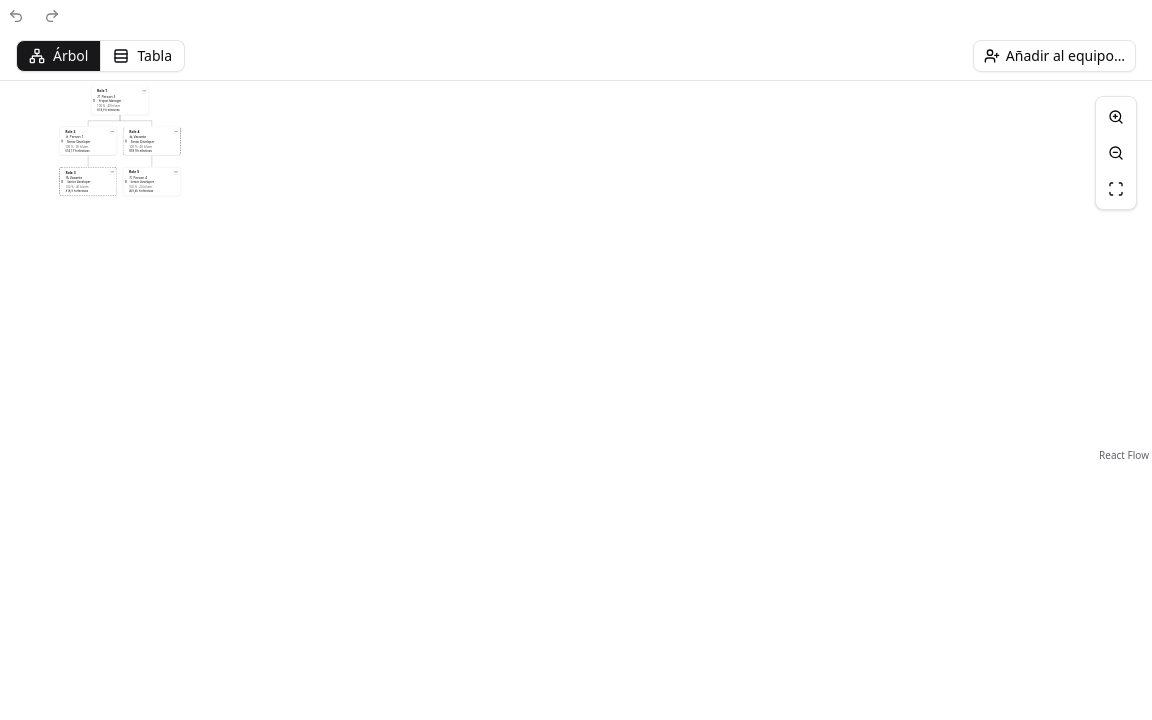
the team's menus › keeps a typed project role when the choice changes
Click the button "Añadir al equipo…": (1054, 56) [973,40,1136,72]
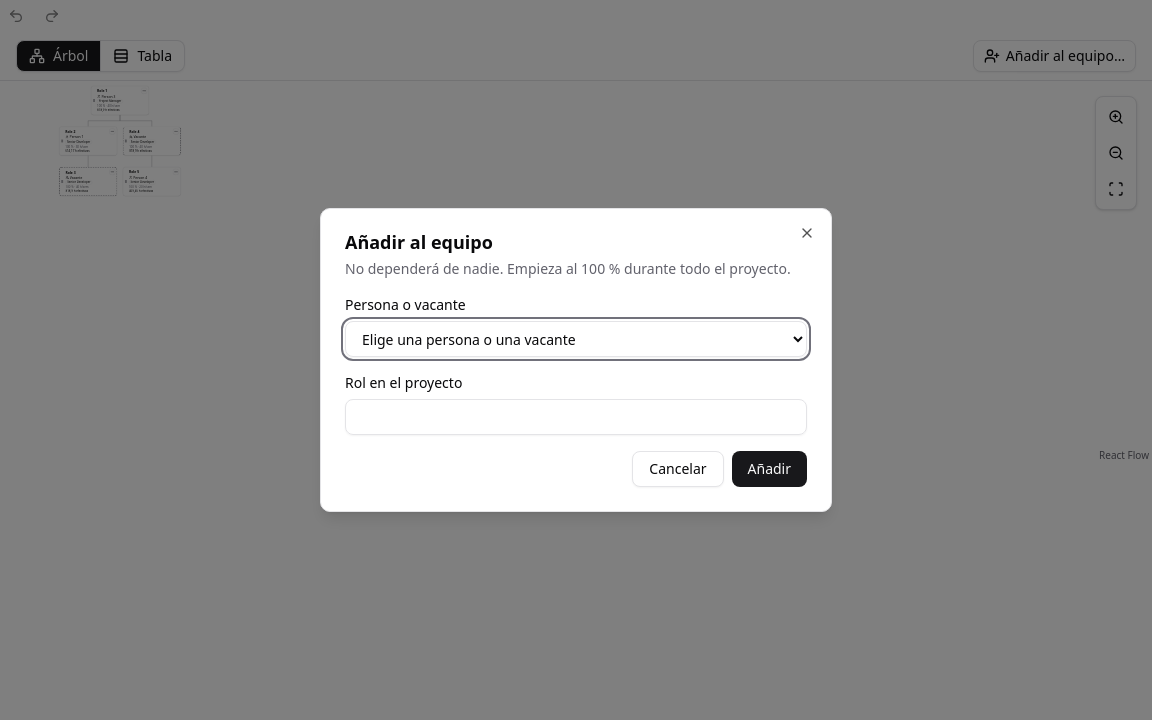
In the field labelled "Rol en el proyecto": (576, 417) [345,399,807,435], type "QA"
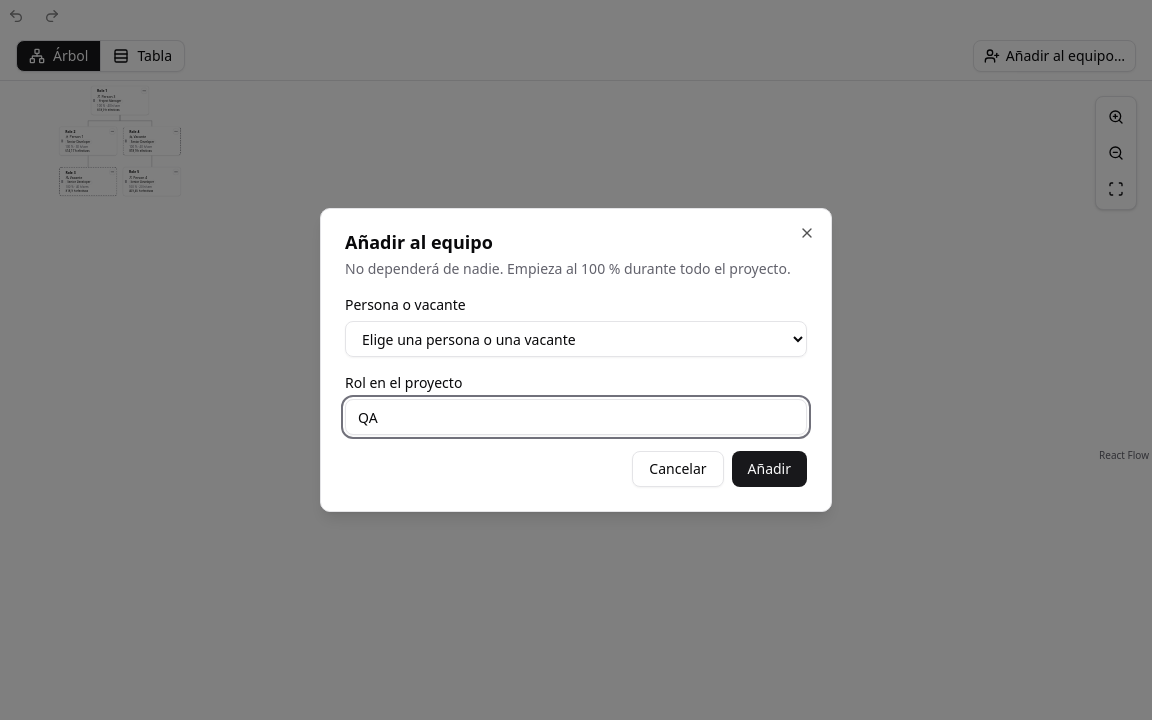
Select "Vacante de Project Manager" in the dropdown labelled "Persona o vacante": (576, 339) [345,321,807,357]
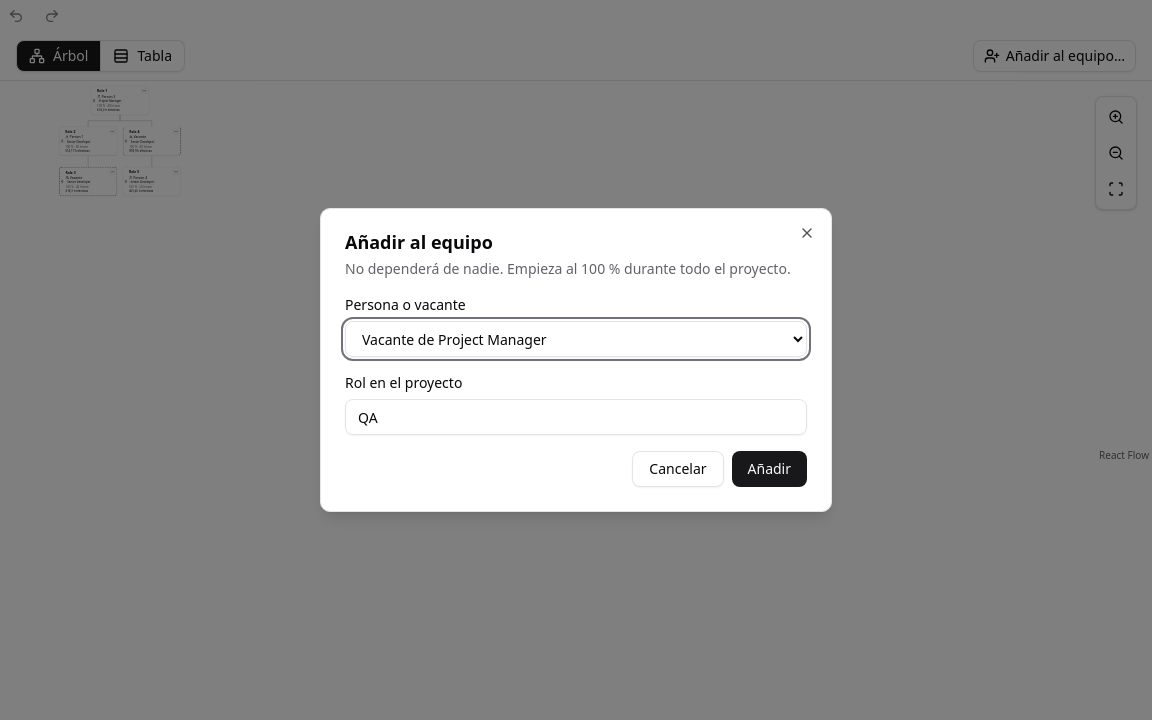
Note: The form checks itself, in the page's language, and ties the problem to its field.
Clear the field labelled "Rol en el proyecto": (576, 417) [345,399,807,435]
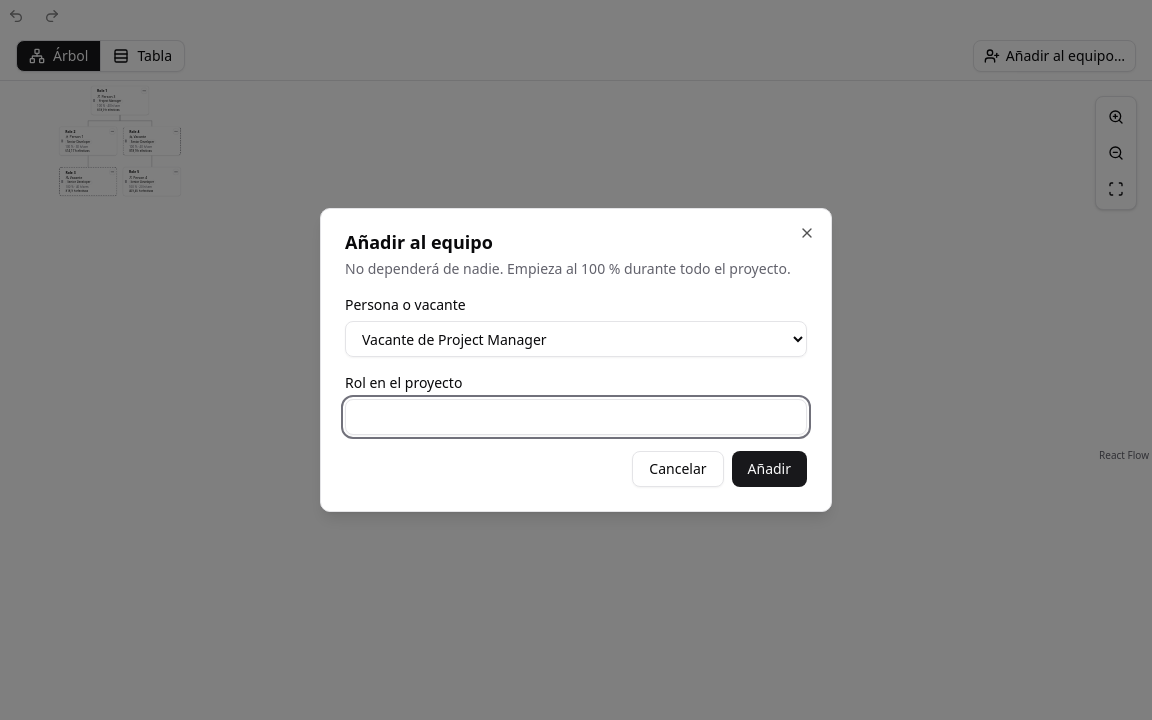
Click the button "Añadir": (769, 469) [732,451,807,487]
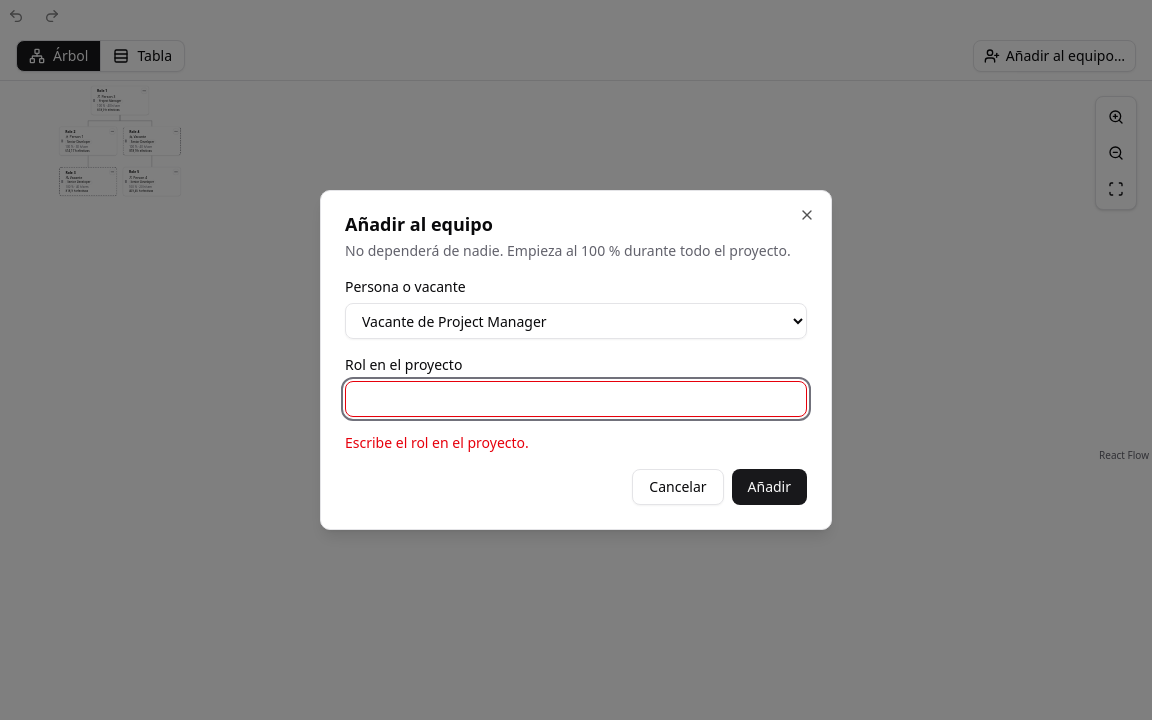
Expected: the message reads "Escribe el rol en el proyecto.", [345,433,529,452]
